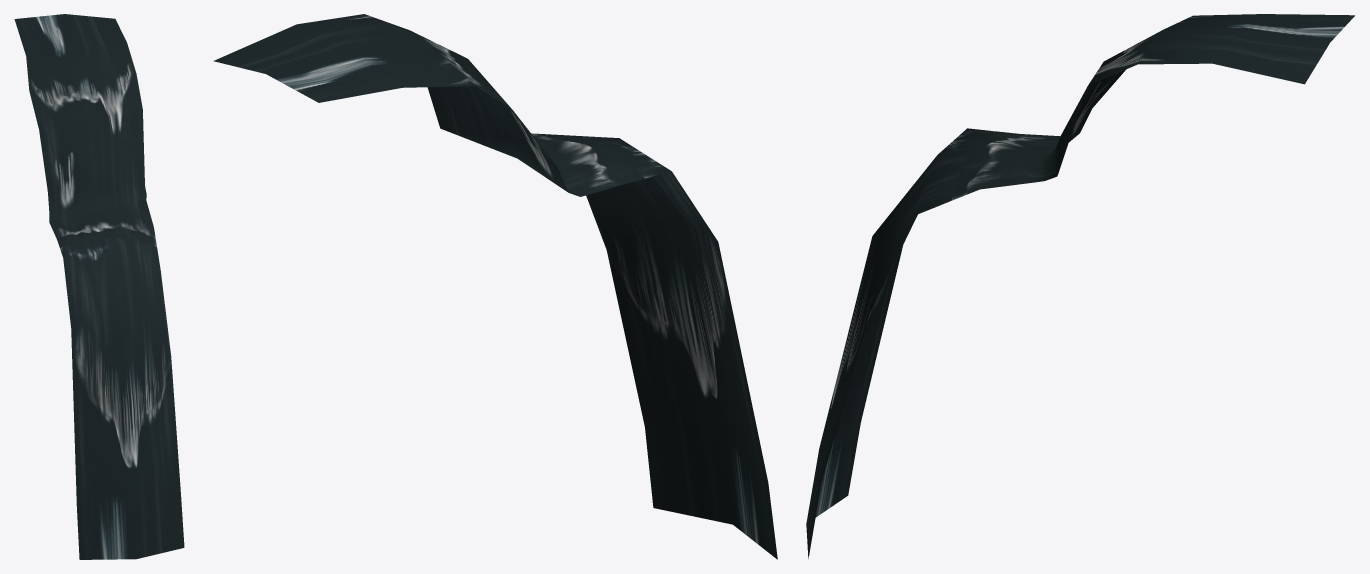
The model's file is water_2.fbx.
3 renders of one model, left to right at view 1: azimuth 30°, elevation 25°; view 2: azimuth 150°, elevation 25°; view 3: azimuth 270°, elevation 25°, orthographic. The views are drawn at different scales.
Visible parts, largest first — view 1: pPlane2; view 2: pPlane2; view 3: pPlane2.
Boxes of the visible parts, <box> form: pPlane2: <box>14,14,184,559</box>; pPlane2: <box>213,14,777,559</box>; pPlane2: <box>806,14,1354,558</box>.
Bounding box in the file's own units: 106 × 203 × 180.
